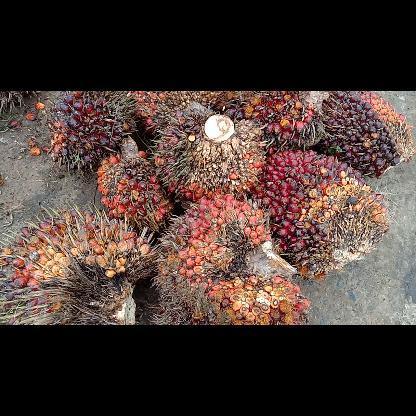TBS masak: (152, 194, 309, 324), (0, 206, 150, 324), (257, 148, 391, 276), (152, 100, 268, 200), (321, 90, 413, 182), (98, 139, 178, 234), (49, 92, 139, 176), (236, 92, 328, 152), (132, 92, 226, 132)
